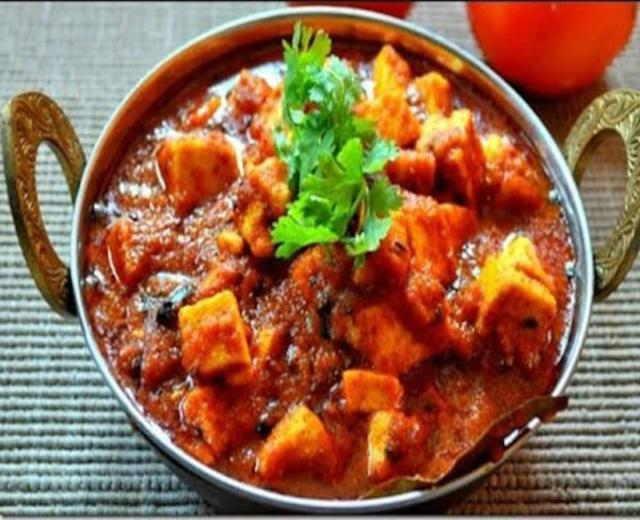kadai paneer: (15, 8, 622, 508), (2, 4, 634, 139), (90, 98, 316, 441), (0, 74, 206, 335), (0, 294, 139, 513), (3, 93, 85, 231), (480, 133, 545, 219), (242, 80, 291, 153), (226, 68, 276, 122), (283, 2, 414, 19), (182, 92, 224, 130)
